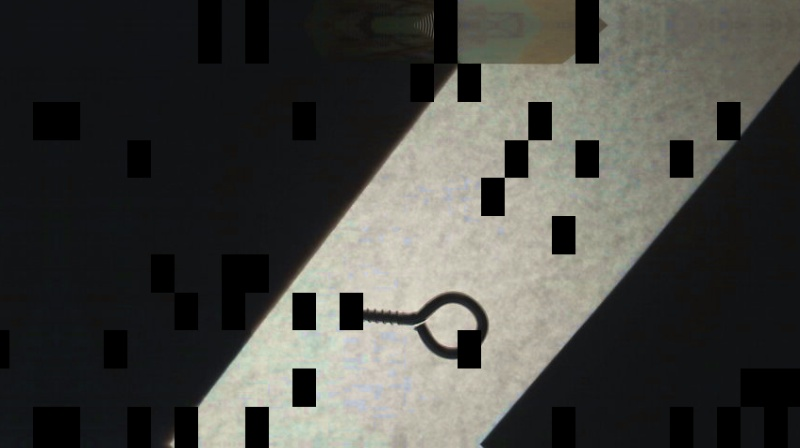O001: (339, 289, 491, 362)
